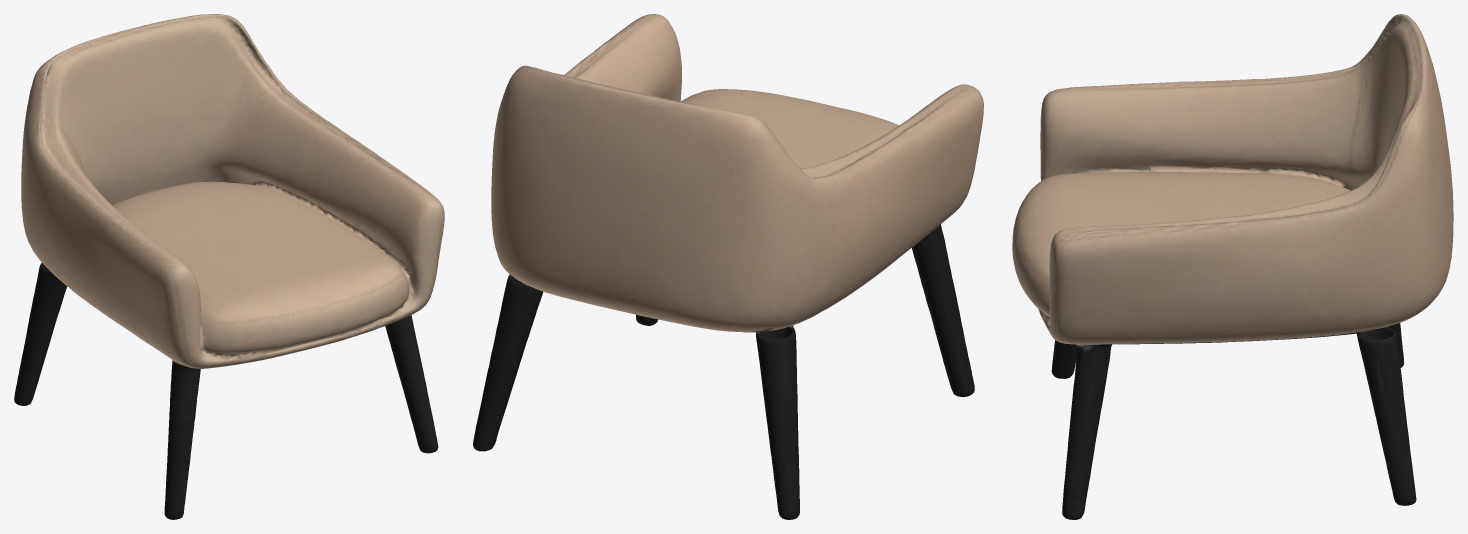
File: chair.glb
3 views of the same model, side by side, from view 1: azimuth 30°, elevation 25°; view 2: azimuth 150°, elevation 25°; view 3: azimuth 270°, elevation 25° (orthographic). The views are drawn at different scales.
Parts seen in each view (by area): view 1: Mesh_0; view 2: Mesh_0; view 3: Mesh_0.
Part boxes in pixels (x1,y1,x2,y2): Mesh_0: [14, 14, 444, 519]; Mesh_0: [473, 14, 983, 519]; Mesh_0: [1012, 14, 1453, 519].
Bounding box in the file's own units: 0.3014 × 0.3407 × 0.3569.
Materials: 1 (1 with a texture image).
